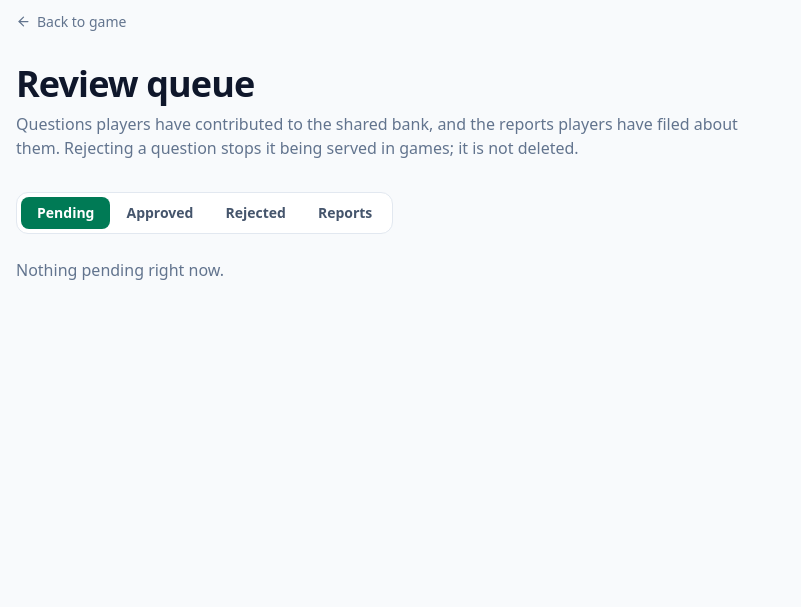
Test case: ReviewQueueComponent rejected tab, rendered › offers a control that reaches the write, labelled for what it does there
Click the radio button with test id "review-tab" showing "Rejected" at (256, 212), box [209,196,302,228]
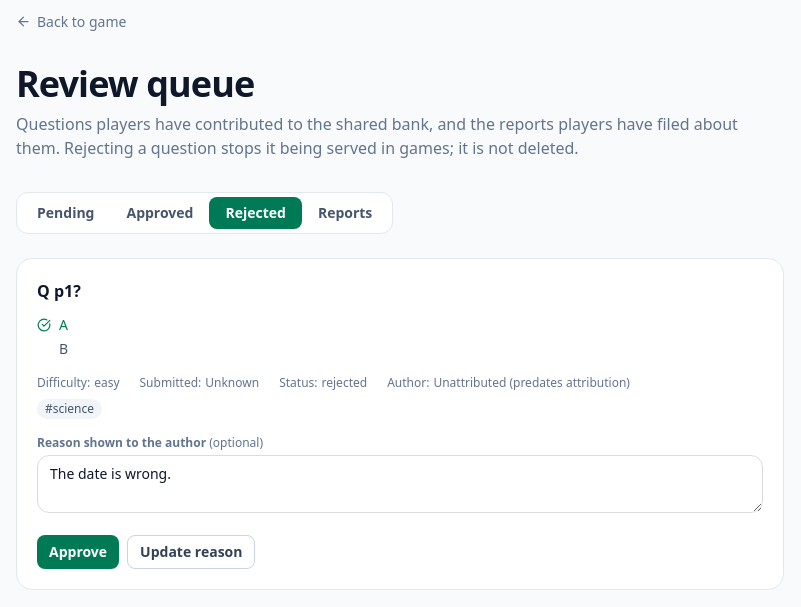
Result: the button with test id "reject-question" reads "Update reason" at [127,534,256,568]
Result: the button with test id "approve-question" is shown at [37,534,119,568]
